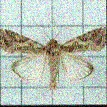Spodoptera litura: (0, 18, 107, 89)
